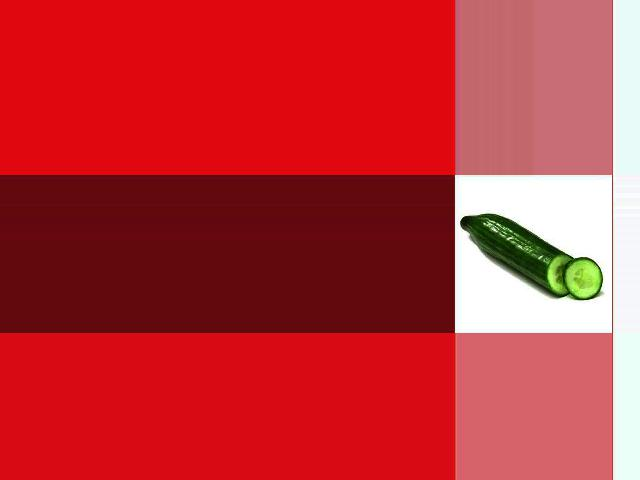cucumber: (460, 214, 575, 297)
